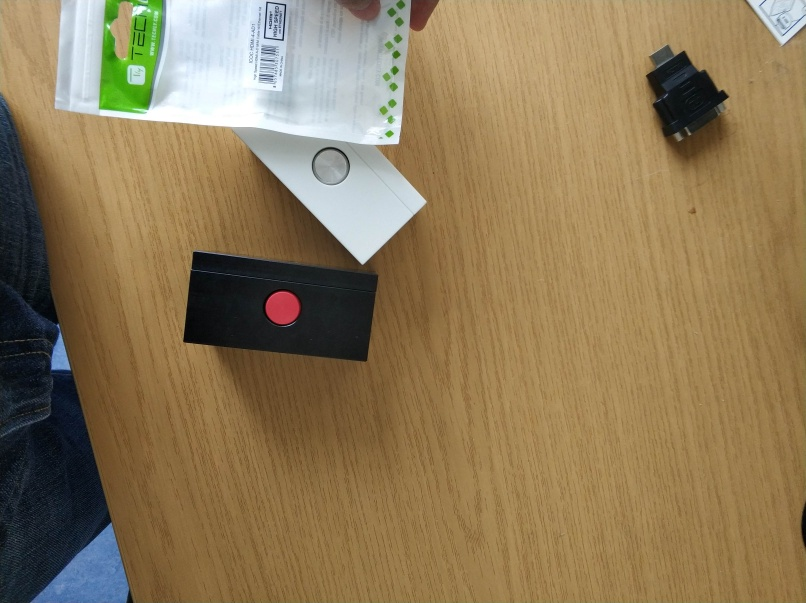black+black+red: (179, 249, 381, 364)
white+white+silver: (223, 123, 433, 269)
